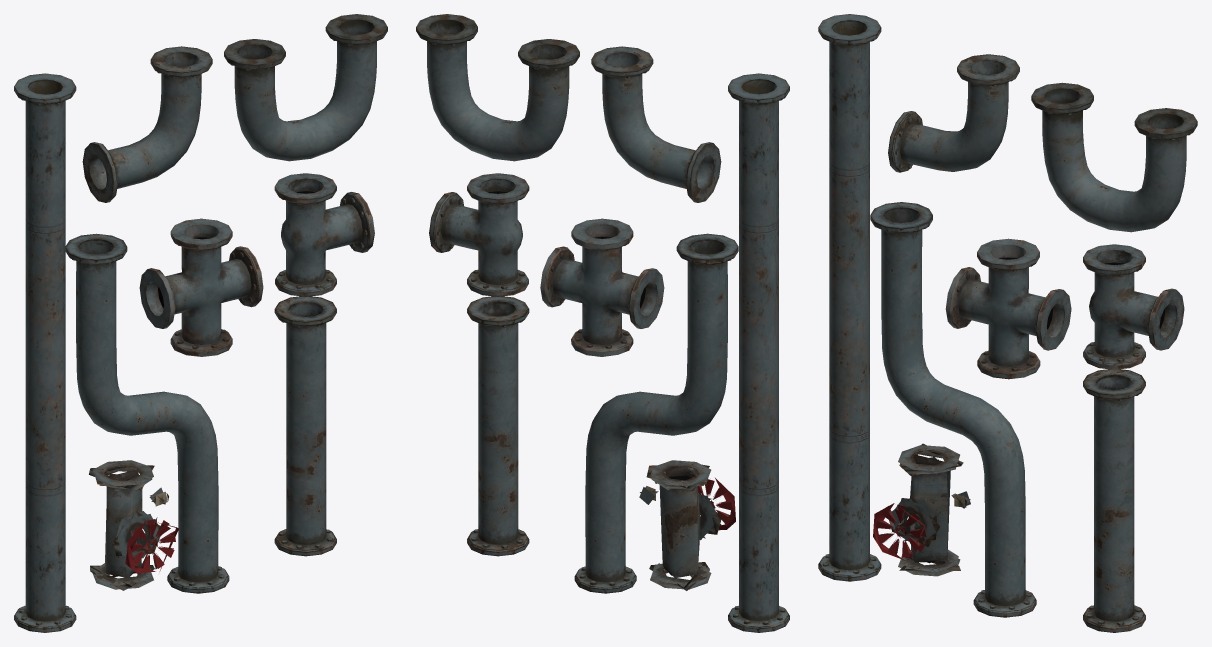
File: modular_industrial_pipes_01.fbx
3 views of the same model, side by side, from view 1: azimuth 30°, elevation 25°; view 2: azimuth 150°, elevation 25°; view 3: azimuth 330°, elevation 25° (orthographic).
Visible parts, largest first — view 1: modular_industrial_pipes_01_pipe02, modular_industrial_pipes_01_pipe03, modular_industrial_pipes_01_pipe05, modular_industrial_pipes_01_pipe01, modular_industrial_pipes_01_pipe07, modular_industrial_pipes_01_pipe04, modular_industrial_pipes_01_pipe06, modular_industrial_pipes_01_pipe08; view 2: modular_industrial_pipes_01_pipe02, modular_industrial_pipes_01_pipe03, modular_industrial_pipes_01_pipe05, modular_industrial_pipes_01_pipe01, modular_industrial_pipes_01_pipe07, modular_industrial_pipes_01_pipe04, modular_industrial_pipes_01_pipe06, modular_industrial_pipes_01_pipe08; view 3: modular_industrial_pipes_01_pipe02, modular_industrial_pipes_01_pipe03, modular_industrial_pipes_01_pipe05, modular_industrial_pipes_01_pipe01, modular_industrial_pipes_01_pipe07, modular_industrial_pipes_01_pipe06, modular_industrial_pipes_01_pipe04, modular_industrial_pipes_01_pipe08.
Part boxes in pixels (x1,y1,x2,y2): modular_industrial_pipes_01_pipe02: (14, 73, 76, 632); modular_industrial_pipes_01_pipe03: (65, 233, 229, 593); modular_industrial_pipes_01_pipe05: (224, 14, 387, 161); modular_industrial_pipes_01_pipe01: (274, 296, 336, 556); modular_industrial_pipes_01_pipe07: (139, 218, 263, 356); modular_industrial_pipes_01_pipe04: (82, 46, 212, 202); modular_industrial_pipes_01_pipe06: (274, 173, 374, 296); modular_industrial_pipes_01_pipe08: (89, 460, 178, 590); modular_industrial_pipes_01_pipe02: (728, 73, 789, 632); modular_industrial_pipes_01_pipe03: (574, 233, 738, 593); modular_industrial_pipes_01_pipe05: (416, 14, 579, 161); modular_industrial_pipes_01_pipe01: (467, 296, 529, 556); modular_industrial_pipes_01_pipe07: (540, 218, 664, 356); modular_industrial_pipes_01_pipe04: (591, 46, 721, 202); modular_industrial_pipes_01_pipe06: (429, 173, 529, 296); modular_industrial_pipes_01_pipe08: (639, 460, 735, 590); modular_industrial_pipes_01_pipe02: (818, 14, 881, 581); modular_industrial_pipes_01_pipe03: (870, 202, 1036, 617); modular_industrial_pipes_01_pipe05: (1031, 82, 1197, 232); modular_industrial_pipes_01_pipe01: (1083, 369, 1145, 632); modular_industrial_pipes_01_pipe07: (945, 238, 1071, 379); modular_industrial_pipes_01_pipe06: (1083, 244, 1184, 369); modular_industrial_pipes_01_pipe04: (888, 54, 1019, 172); modular_industrial_pipes_01_pipe08: (873, 443, 970, 576).
Bounding box in the file's own units: 140 × 195 × 30.67.
Materials: 2 (2 with a texture image).
